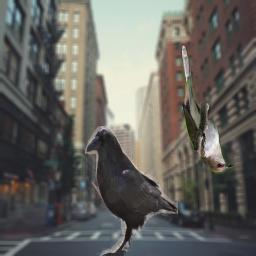Crow: (85, 126, 178, 256)
Cuckoo: (181, 44, 235, 174)
